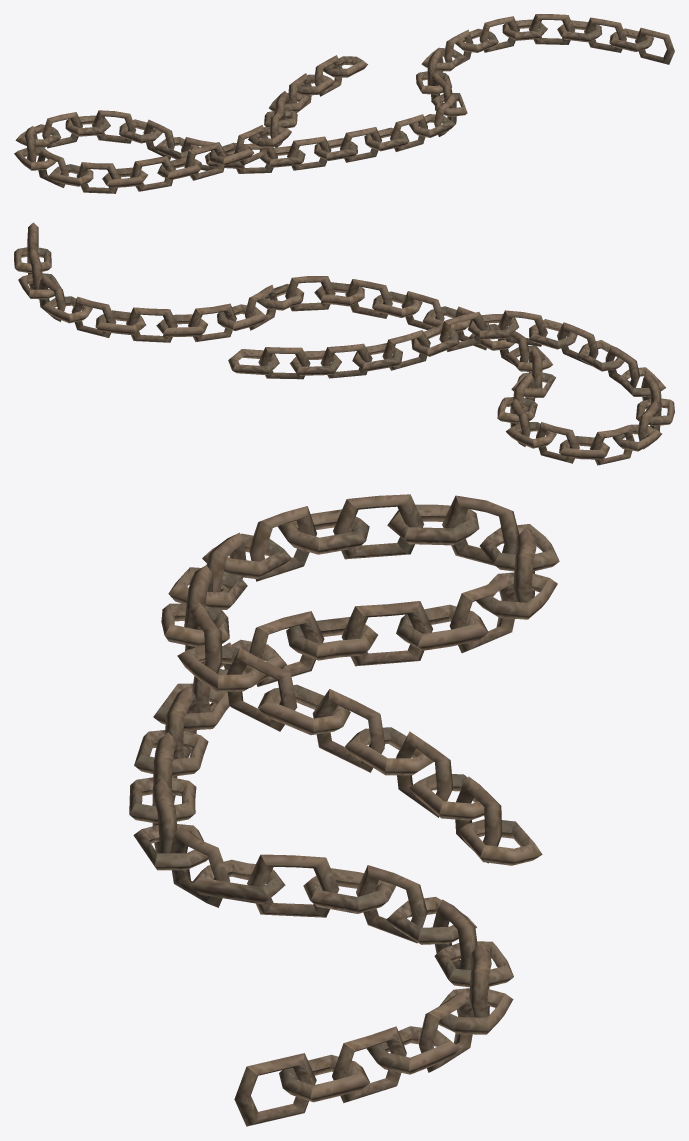
The picture shows the model from 3 angles, top to bottom: view 1: azimuth 30°, elevation 25°; view 2: azimuth 150°, elevation 25°; view 3: azimuth 270°, elevation 25°; orthographic projection. The views are drawn at different scales.
Parts seen in each view (by area): view 1: SM_GroundChains_02_LOD0; view 2: SM_GroundChains_02_LOD0; view 3: SM_GroundChains_02_LOD0.
Boxes of the visible parts, bbox=[...] form: SM_GroundChains_02_LOD0: bbox=[14, 14, 674, 193]; SM_GroundChains_02_LOD0: bbox=[14, 222, 674, 465]; SM_GroundChains_02_LOD0: bbox=[129, 494, 559, 1126].
Size of the model in its own units: 3 by 0.2219 by 0.9241.
Materials: 1 (1 with a texture image).
